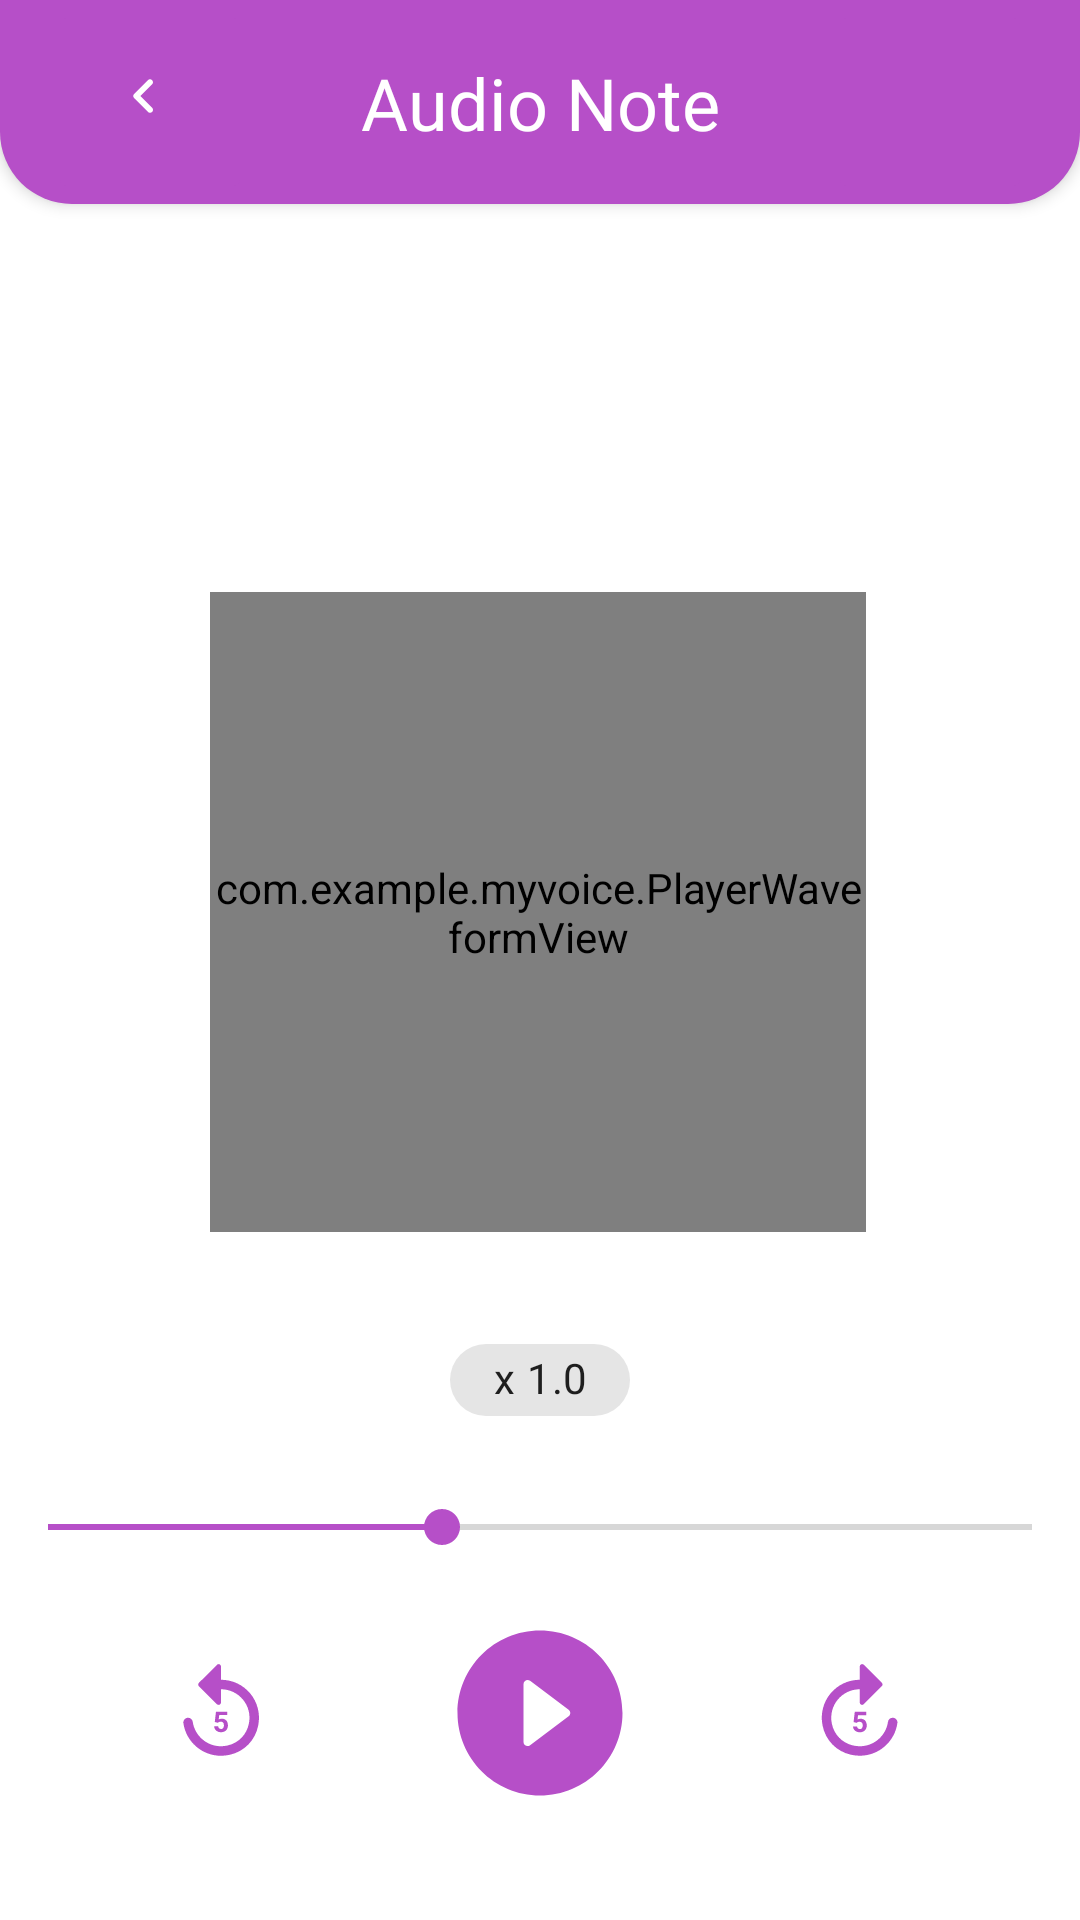

Icons on this 1080*1920 Android screen, each with the point to tap as [x,y]:
back: [143,96]
backward: [221,1710]
forward: [859,1710]
play circle: [540,1713]
